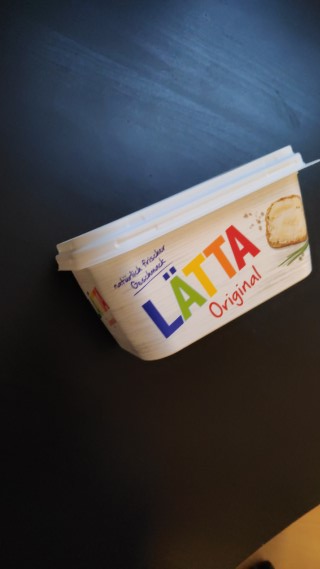laetta: (55, 144, 320, 361)
